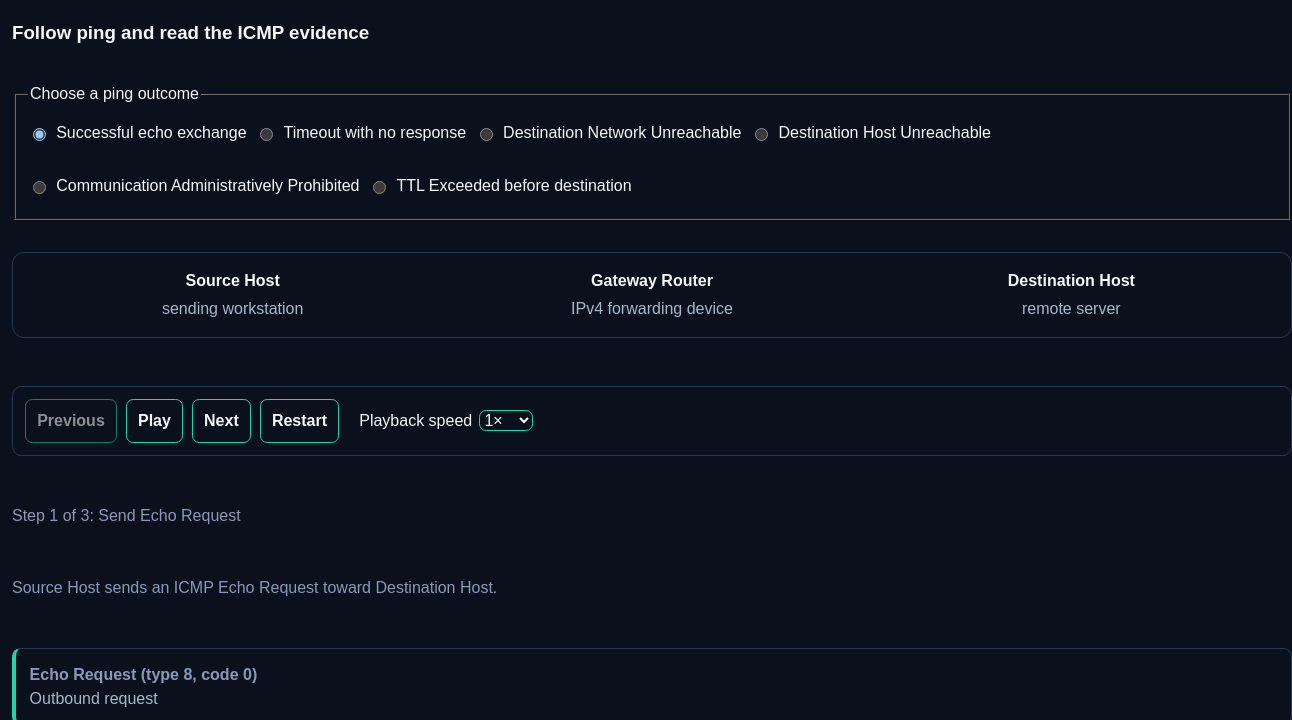
Test case: PingEvidencePlayer › shows reporter and quoted packet evidence without confusing it with the destination
Click the radio button labelled "Destination Host Unreachable": (762, 135) [755,128,768,141]
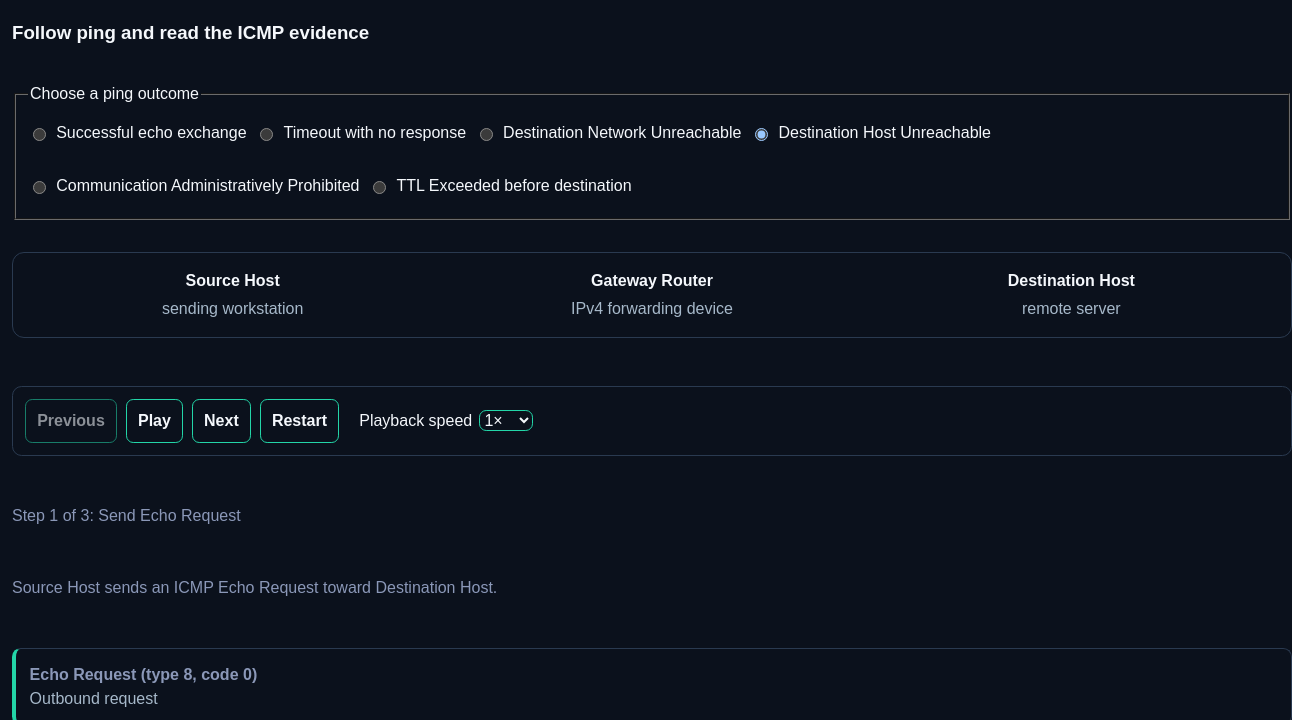
Click the button "Next": (221, 421) [192,399,251,443]
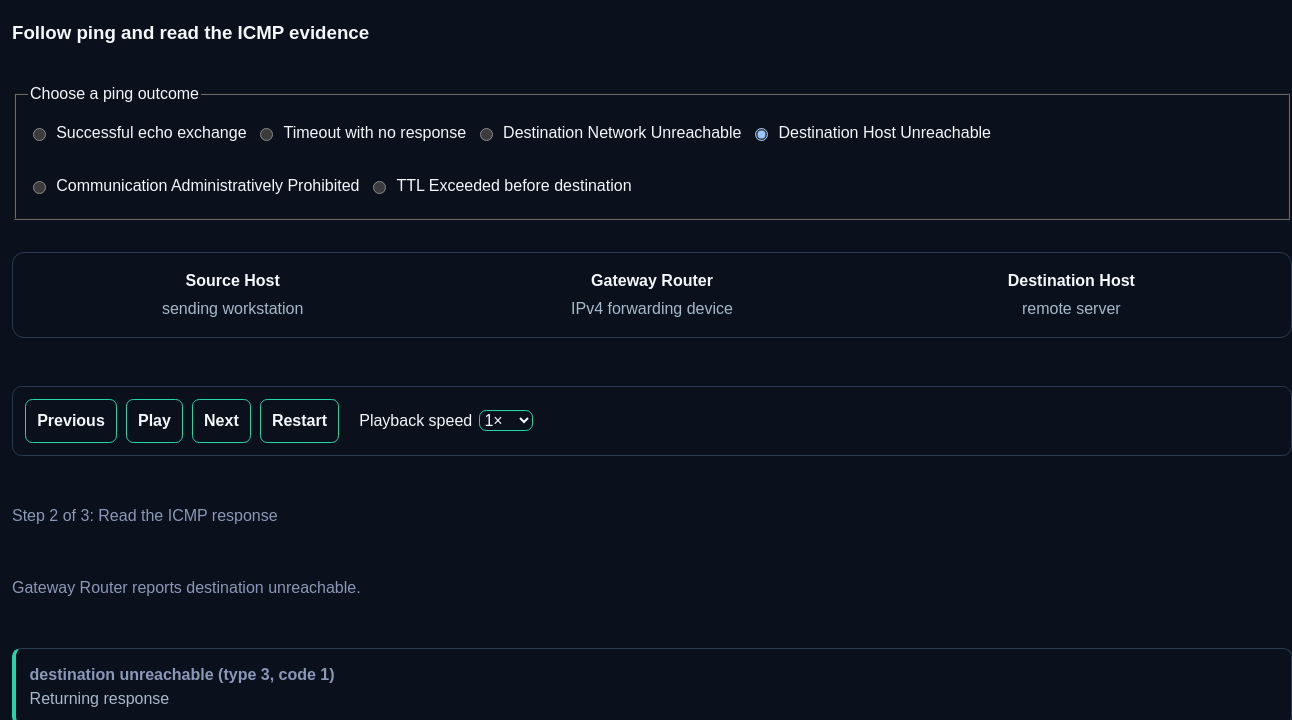
Now the text "destination unreachable (type 3, code 1)" is shown, box [30,666,335,682]
